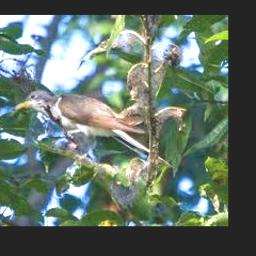Cuckoo: (16, 90, 175, 170)
